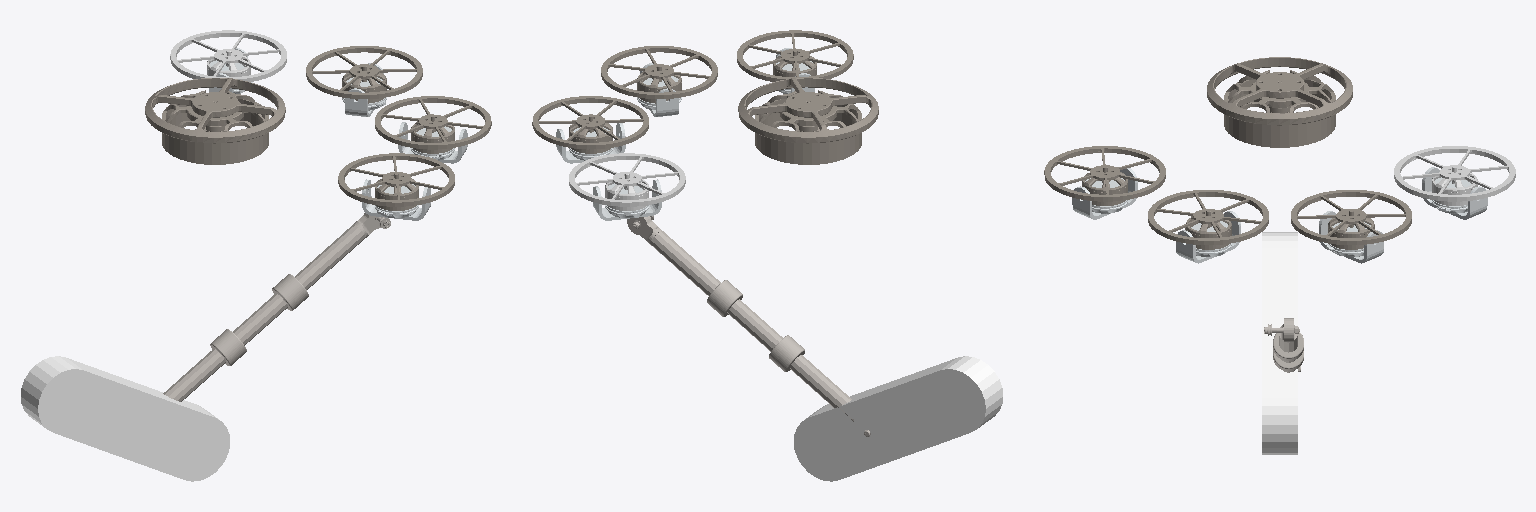
robot.urdf — hopper_cmg:
<?xml version="1.0" encoding="utf-8"?>
<!-- This URDF was automatically created by SolidWorks to URDF Exporter! Originally created by [author] ([email redacted]) 
     Commit Version: 1.5.1-0-g916b5db  Build Version: 1.5.7152.31018
     For more information, please see http://wiki.ros.org/sw_urdf_exporter -->
<robot
  name="hopper_cmg">
  <link
    name="base_link">
    <inertial>
      <origin
        xyz="0.00261236318523849 0.000103468728137993 0.0225006879651919"
        rpy="0 0 0" />
      <mass
        value="4.33217212737128" />
      <inertia
        ixx="0.00375815398192548"
        ixy="-3.22398991975807E-06"
        ixz="5.54302878597224E-05"
        iyy="0.00602760648550053"
        iyz="8.35762984194489E-06"
        izz="0.00485347608415349" />
    </inertial>
    <visual>
      <origin
        xyz="0 0 0"
        rpy="0 0 0" />
      <geometry>
        <mesh
          filename="package://hopper_cmg/meshes/base_link.STL" />
      </geometry>
      <material
        name="">
        <color
          rgba="0.898039215686275 0.898039215686275 0.898039215686275 1" />
      </material>
    </visual>
    <collision>
      <origin
        xyz="0 0 0"
        rpy="0 0 0" />
      <geometry>
        <mesh
          filename="package://hopper_cmg/meshes/base_link.STL" />
      </geometry>
    </collision>
  </link>
  <link
    name="Link 0">
    <inertial>
      <origin
        xyz="0.0121851264299085 0.0180889013941849 0.00112690392742547"
        rpy="0 0 0" />
      <mass
        value="0.256385566503952" />
      <inertia
        ixx="3.84650100874964E-05"
        ixy="1.5379784060096E-05"
        ixz="-8.48318798628567E-06"
        iyy="0.00017263374747093"
        iyz="1.08260201375488E-06"
        izz="0.000148822440720501" />
    </inertial>
    <visual>
      <origin
        xyz="0 0 0"
        rpy="0 0 0" />
      <geometry>
        <mesh
          filename="package://hopper_cmg/meshes/Link 0.STL" />
      </geometry>
      <material
        name="">
        <color
          rgba="0.898039215686275 0.898039215686275 0.898039215686275 1" />
      </material>
    </visual>
    <collision>
      <origin
        xyz="0 0 0"
        rpy="0 0 0" />
      <geometry>
        <mesh
          filename="package://hopper_cmg/meshes/Link 0.STL" />
      </geometry>
    </collision>
  </link>
  <joint
    name="Joint 0"
    type="revolute">
    <origin
      xyz="0 0 0"
      rpy="0 0.5235987755983 0" />
    <parent
      link="base_link" />
    <child
      link="Link 0" />
    <axis
      xyz="0 -1 0" />
    <limit
      lower="-3.14"
      upper="3.14"
      effort="0"
      velocity="0" />
  </joint>
  <link
    name="Link 1">
    <inertial>
      <origin
        xyz="0.133101645966311 0.0065299836527158 -1.77401572598601E-09"
        rpy="0 0 0" />
      <mass
        value="0.0631473819780702" />
      <inertia
        ixx="2.55548531328561E-06"
        ixy="6.97718053269074E-12"
        ixz="-1.4360015064691E-12"
        iyy="0.000104301911822778"
        iyz="7.22908067855875E-12"
        izz="0.000104301119173831" />
    </inertial>
    <visual>
      <origin
        xyz="0 0 0"
        rpy="0 0 0" />
      <geometry>
        <mesh
          filename="package://hopper_cmg/meshes/Link 1.STL" />
      </geometry>
      <material
        name="">
        <color
          rgba="0.776470588235294 0.756862745098039 0.737254901960784 1" />
      </material>
    </visual>
    <collision>
      <origin
        xyz="0 0 0"
        rpy="0 0 0" />
      <geometry>
        <mesh
          filename="package://hopper_cmg/meshes/Link 1.STL" />
      </geometry>
    </collision>
  </link>
  <joint
    name="Joint 1"
    type="revolute">
    <origin
      xyz="0.0999999999999999 0 0"
      rpy="-3.14159265358979 1.0768315178335 -3.14159265358979" />
    <parent
      link="Link 0" />
    <child
      link="Link 1" />
    <axis
      xyz="0 -1 0" />
    <limit
      lower="-0.7597"
      upper="1.8295"
      effort="0"
      velocity="0" />
  </joint>
  <link
    name="Link 2">
    <inertial>
      <origin
        xyz="0.0389032293637952 -0.0169313660252965 -0.000627148519961443"
        rpy="0 0 0" />
      <mass
        value="0.288845046277886" />
      <inertia
        ixx="3.46488303623413E-05"
        ixy="-3.2595892889737E-07"
        ixz="5.24928685528963E-06"
        iyy="0.000245584747760095"
        iyz="3.01080375580464E-08"
        izz="0.000226676363063251" />
    </inertial>
    <visual>
      <origin
        xyz="0 0 0"
        rpy="0 0 0" />
      <geometry>
        <mesh
          filename="package://hopper_cmg/meshes/Link 2.STL" />
      </geometry>
      <material
        name="">
        <color
          rgba="0.898039215686275 0.898039215686275 0.898039215686275 1" />
      </material>
    </visual>
    <collision>
      <origin
        xyz="0 0 0"
        rpy="0 0 0" />
      <geometry>
        <mesh
          filename="package://hopper_cmg/meshes/Link 2.STL" />
      </geometry>
    </collision>
  </link>
  <joint
    name="Joint 2"
    type="revolute">
    <origin
      xyz="0 0 0"
      rpy="3.14159265358979 0.553232742319403 -3.14159265358979" />
    <parent
      link="base_link" />
    <child
      link="Link 2" />
    <axis
      xyz="0 -1 0" />
    <limit
      lower="-3.14"
      upper="3.14"
      effort="0"
      velocity="0" />
  </joint>
  <link
    name="Link 3">
    <inertial>
      <origin
        xyz="0.101438168501981 -0.00251001080605991 -0.014853286013961"
        rpy="0 0 0" />
      <mass
        value="0.124857600403456" />
      <inertia
        ixx="1.60742533911176E-05"
        ixy="-5.54606458180708E-07"
        ixz="1.00368234247389E-06"
        iyy="0.000116506434480003"
        iyz="1.07130354027135E-07"
        izz="0.000112946753756388" />
    </inertial>
    <visual>
      <origin
        xyz="0 0 0"
        rpy="0 0 0" />
      <geometry>
        <mesh
          filename="package://hopper_cmg/meshes/Link 3.STL" />
      </geometry>
      <material
        name="">
        <color
          rgba="1 1 1 1" />
      </material>
    </visual>
    <collision>
      <origin
        xyz="0 0 0"
        rpy="0 0 0" />
      <geometry>
        <mesh
          filename="package://hopper_cmg/meshes/Link 3.STL" />
      </geometry>
    </collision>
  </link>
  <joint
    name="Joint 3"
    type="revolute">
    <origin
      xyz="0.270000000042219 0 0"
      rpy="-3.14159265358979 -1.07683151743819 3.14159265358979" />
    <parent
      link="Link 2" />
    <child
      link="Link 3" />
    <axis
      xyz="0 -1 0" />
    <limit
      lower="-1.8295"
      upper="0.7597"
      effort="0"
      velocity="0" />
  </joint>
  <link
    name="gimbal0">
    <inertial>
      <origin
        xyz="-3.24439967698958E-05 -0.00476693417491843 -1.47004711936322E-05"
        rpy="0 0 0" />
      <mass
        value="0.145059153810549" />
      <inertia
        ixx="2.16270334418995E-05"
        ixy="-3.5112429981254E-08"
        ixz="-1.74609413517041E-09"
        iyy="2.68084572591952E-05"
        iyz="-1.59653002769902E-08"
        izz="1.56100554784467E-05" />
    </inertial>
    <visual>
      <origin
        xyz="0 0 0"
        rpy="0 0 0" />
      <geometry>
        <mesh
          filename="package://hopper_cmg/meshes/gimbal0.STL" />
      </geometry>
      <material
        name="">
        <color
          rgba="0.898039215686275 0.917647058823529 0.929411764705882 1" />
      </material>
    </visual>
    <collision>
      <origin
        xyz="0 0 0"
        rpy="0 0 0" />
      <geometry>
        <mesh
          filename="package://hopper_cmg/meshes/gimbal0.STL" />
      </geometry>
    </collision>
  </link>
  <joint
    name="joint_gimbal0"
    type="fixed">
    <origin
      xyz="0.0200818325856985 -0.143506009999232 0.0469999999999983"
      rpy="1.5707963267949 0 0.785398163397444" />
    <parent
      link="base_link" />
    <child
      link="gimbal0" />
    <axis
      xyz="0.707106781186545 0 -0.70710678118655" />
  </joint>
  <link
    name="rw0">
    <inertial>
      <origin
        xyz="-1.37939491051675E-07 -0.009459272109353 -1.05271875022739E-07"
        rpy="0 0 0" />
      <mass
        value="0.0987820774247233" />
      <inertia
        ixx="5.9232902387301E-05"
        ixy="-8.72494565429382E-11"
        ixz="-1.38955720649882E-12"
        iyy="0.000115069019848817"
        iyz="-7.3188655456447E-11"
        izz="5.92328339979813E-05" />
    </inertial>
    <visual>
      <origin
        xyz="0 0 0"
        rpy="0 0 0" />
      <geometry>
        <mesh
          filename="package://hopper_cmg/meshes/rw0.STL" />
      </geometry>
      <material
        name="">
        <color
          rgba="0.647058823529412 0.619607843137255 0.588235294117647 1" />
      </material>
    </visual>
    <collision>
      <origin
        xyz="0 0 0"
        rpy="0 0 0" />
      <geometry>
        <mesh
          filename="package://hopper_cmg/meshes/rw0.STL" />
      </geometry>
    </collision>
  </link>
  <joint
    name="joint_rw0"
    type="continuous">
    <origin
      xyz="0 0 0"
      rpy="0 -0.834873615401156 3.14159265358979" />
    <parent
      link="gimbal0" />
    <child
      link="rw0" />
    <axis
      xyz="0 1 0" />
  </joint>
  <link
    name="gimbal1">
    <inertial>
      <origin
        xyz="-3.41130508157289E-05 -0.00476693457280208 1.02508103360238E-05"
        rpy="0 0 0" />
      <mass
        value="0.145059160959023" />
      <inertia
        ixx="2.16762455646179E-05"
        ixy="-3.69555052598344E-08"
        ixz="5.81578374244821E-08"
        iyy="2.68084600740621E-05"
        iyz="1.1052036908392E-08"
        izz="1.55608473369791E-05" />
    </inertial>
    <visual>
      <origin
        xyz="0 0 0"
        rpy="0 0 0" />
      <geometry>
        <mesh
          filename="package://hopper_cmg/meshes/gimbal1.STL" />
      </geometry>
      <material
        name="">
        <color
          rgba="0.898039215686275 0.917647058823529 0.929411764705882 1" />
      </material>
    </visual>
    <collision>
      <origin
        xyz="0 0 0"
        rpy="0 0 0" />
      <geometry>
        <mesh
          filename="package://hopper_cmg/meshes/gimbal1.STL" />
      </geometry>
    </collision>
  </link>
  <joint
    name="joint_gimbal1"
    type="fixed">
    <origin
      xyz="0.104934646328085 -0.058653196256847 0.0469999999999984"
      rpy="1.5707963267949 0 0.785398163397444" />
    <parent
      link="base_link" />
    <child
      link="gimbal1" />
    <axis
      xyz="-0.707106781186544 0 0.707106781186551" />
  </joint>
  <link
    name="rw1">
    <inertial>
      <origin
        xyz="1.05271873641899E-07 -0.00945927210935277 -1.37939493688455E-07"
        rpy="0 0 0" />
      <mass
        value="0.0987820774247232" />
      <inertia
        ixx="5.92328339979811E-05"
        ixy="7.31886554488849E-11"
        ixz="1.38955721454563E-12"
        iyy="0.000115069019848817"
        iyz="-8.72494565285255E-11"
        izz="5.92329023873008E-05" />
    </inertial>
    <visual>
      <origin
        xyz="0 0 0"
        rpy="0 0 0" />
      <geometry>
        <mesh
          filename="package://hopper_cmg/meshes/rw1.STL" />
      </geometry>
      <material
        name="">
        <color
          rgba="0.647058823529412 0.619607843137255 0.588235294117647 1" />
      </material>
    </visual>
    <collision>
      <origin
        xyz="0 0 0"
        rpy="0 0 0" />
      <geometry>
        <mesh
          filename="package://hopper_cmg/meshes/rw1.STL" />
      </geometry>
    </collision>
  </link>
  <joint
    name="joint_rw1"
    type="continuous">
    <origin
      xyz="0 0 0"
      rpy="0 0.0185983080019021 3.14159265358979" />
    <parent
      link="gimbal1" />
    <child
      link="rw1" />
    <axis
      xyz="0 1 0" />
  </joint>
  <link
    name="rwz">
    <inertial>
      <origin
        xyz="9.05342964485634E-09 -3.1638361375208E-10 -0.0146079871766007"
        rpy="0 0 0" />
      <mass
        value="0.377854494953541" />
      <inertia
        ixx="0.000300958121757203"
        ixy="-4.23471734024503E-12"
        ixz="-6.67153439225596E-12"
        iyy="0.000300957997312782"
        iyz="9.55842433400722E-14"
        izz="0.000578115934214614" />
    </inertial>
    <visual>
      <origin
        xyz="0 0 0"
        rpy="0 0 0" />
      <geometry>
        <mesh
          filename="package://hopper_cmg/meshes/rwz.STL" />
      </geometry>
      <material
        name="">
        <color
          rgba="0.647058823529412 0.619607843137255 0.588235294117647 1" />
      </material>
    </visual>
    <collision>
      <origin
        xyz="0 0 0"
        rpy="0 0 0" />
      <geometry>
        <mesh
          filename="package://hopper_cmg/meshes/rwz.STL" />
      </geometry>
    </collision>
  </link>
  <joint
    name="joint_rwz"
    type="continuous">
    <origin
      xyz="-0.076 0 0.0991000000000001"
      rpy="0 0 -2.35619449019233" />
    <parent
      link="base_link" />
    <child
      link="rwz" />
    <axis
      xyz="0 0 1" />
  </joint>
  <link
    name="gimbal2">
    <inertial>
      <origin
        xyz="-3.24439967699305E-05 -0.00476693417491843 -1.47004711935766E-05"
        rpy="0 0 0" />
      <mass
        value="0.145059153810549" />
      <inertia
        ixx="2.16270334418995E-05"
        ixy="-3.5112429981238E-08"
        ixz="-1.74609413518481E-09"
        iyy="2.68084572591951E-05"
        iyz="-1.5965300276996E-08"
        izz="1.56100554784467E-05" />
    </inertial>
    <visual>
      <origin
        xyz="0 0 0"
        rpy="0 0 0" />
      <geometry>
        <mesh
          filename="package://hopper_cmg/meshes/gimbal2.STL" />
      </geometry>
      <material
        name="">
        <color
          rgba="0.898039215686275 0.917647058823529 0.929411764705882 1" />
      </material>
    </visual>
    <collision>
      <origin
        xyz="0 0 0"
        rpy="0 0 0" />
      <geometry>
        <mesh
          filename="package://hopper_cmg/meshes/gimbal2.STL" />
      </geometry>
    </collision>
  </link>
  <joint
    name="joint_gimbal2"
    type="fixed">
    <origin
      xyz="0.104934646328084 0.058653196256847 0.0470000000000001"
      rpy="1.5707963267949 0 2.35619449019235" />
    <parent
      link="base_link" />
    <child
      link="gimbal2" />
    <axis
      xyz="0 0 0" />
  </joint>
  <link
    name="rw2">
    <inertial>
      <origin
        xyz="-1.37939491121064E-07 -0.00945927210935297 -1.05271875293356E-07"
        rpy="0 0 0" />
      <mass
        value="0.0987820774247234" />
      <inertia
        ixx="5.9232902387301E-05"
        ixy="-8.72494564534164E-11"
        ixz="-1.38955719675794E-12"
        iyy="0.000115069019848817"
        iyz="-7.31886538986355E-11"
        izz="5.92328339979813E-05" />
    </inertial>
    <visual>
      <origin
        xyz="0 0 0"
        rpy="0 0 0" />
      <geometry>
        <mesh
          filename="package://hopper_cmg/meshes/rw2.STL" />
      </geometry>
      <material
        name="">
        <color
          rgba="0.647058823529412 0.619607843137255 0.588235294117647 1" />
      </material>
    </visual>
    <collision>
      <origin
        xyz="0 0 0"
        rpy="0 0 0" />
      <geometry>
        <mesh
          filename="package://hopper_cmg/meshes/rw2.STL" />
      </geometry>
    </collision>
  </link>
  <joint
    name="joint_rw2"
    type="continuous">
    <origin
      xyz="0 0 0"
      rpy="0 -0.834873615401156 3.14159265358979" />
    <parent
      link="gimbal2" />
    <child
      link="rw2" />
    <axis
      xyz="0 1 0" />
  </joint>
  <link
    name="gimbal3">
    <inertial>
      <origin
        xyz="-3.41130091143643E-05 -0.00476693456543522 1.02508109800087E-05"
        rpy="0 0 0" />
      <mass
        value="0.145059160100867" />
      <inertia
        ixx="2.16762455706335E-05"
        ixy="-3.69554946688773E-08"
        ixz="5.81578377267636E-08"
        iyy="2.68084600312876E-05"
        iyz="1.10520332051306E-08"
        izz="1.55608472953775E-05" />
    </inertial>
    <visual>
      <origin
        xyz="0 0 0"
        rpy="0 0 0" />
      <geometry>
        <mesh
          filename="package://hopper_cmg/meshes/gimbal3.STL" />
      </geometry>
      <material
        name="">
        <color
          rgba="0.898039215686275 0.917647058823529 0.929411764705882 1" />
      </material>
    </visual>
    <collision>
      <origin
        xyz="0 0 0"
        rpy="0 0 0" />
      <geometry>
        <mesh
          filename="package://hopper_cmg/meshes/gimbal3.STL" />
      </geometry>
    </collision>
  </link>
  <joint
    name="joint_gimbal3"
    type="fixed">
    <origin
      xyz="0.0200818325856976 0.143506009999232 0.047"
      rpy="1.5707963267949 0 2.35619449019235" />
    <parent
      link="base_link" />
    <child
      link="gimbal3" />
    <axis
      xyz="0 0 0" />
  </joint>
  <link
    name="rw3">
    <inertial>
      <origin
        xyz="0.00945927210935301 1.05271875036617E-07 -1.37939491051675E-07"
        rpy="0 0 0" />
      <mass
        value="0.0987820774247234" />
      <inertia
        ixx="0.000115069019848817"
        ixy="-7.31886555445307E-11"
        ixz="8.72494564434813E-11"
        iyy="5.92328339979811E-05"
        iyz="1.38955724334475E-12"
        izz="5.92329023873009E-05" />
    </inertial>
    <visual>
      <origin
        xyz="0 0 0"
        rpy="0 0 0" />
      <geometry>
        <mesh
          filename="package://hopper_cmg/meshes/rw3.STL" />
      </geometry>
      <material
        name="">
        <color
          rgba="0.898039215686275 0.898039215686275 0.898039215686275 1" />
      </material>
    </visual>
    <collision>
      <origin
        xyz="0 0 0"
        rpy="0 0 0" />
      <geometry>
        <mesh
          filename="package://hopper_cmg/meshes/rw3.STL" />
      </geometry>
    </collision>
  </link>
  <joint
    name="joint_rw3"
    type="continuous">
    <origin
      xyz="0 0 0"
      rpy="-0.018598308001901 0 1.5707963267949" />
    <parent
      link="gimbal3" />
    <child
      link="rw3" />
    <axis
      xyz="-1 0 0" />
  </joint>
</robot>

--- Facts derived from the render (not from the file) ---
3 views of the same robot in one strip: view 1: azimuth 30°, elevation 25°; view 2: azimuth 150°, elevation 25°; view 3: azimuth 270°, elevation 25° (orthographic).
Robot: hopper_cmg — 14 links, 13 joints (4 revolute, 5 continuous, 4 fixed); root link base_link; default pose: all joints at 0.
Visible links, largest first — view 1: Link 3, rwz, Link 1, rw1, rw0, rw2, rw3, gimbal0, gimbal1, gimbal2; view 2: Link 3, rwz, Link 1, rw2, rw3, rw1, rw0, gimbal3, gimbal2, gimbal1; view 3: rwz, Link 3, rw2, rw3, rw1, rw0, Link 1, gimbal0, gimbal3, gimbal1, gimbal2.
Boxes of the visible links, box(x1,y1,x2,y2) form: Link 3: box(21, 356, 229, 481); rwz: box(145, 78, 285, 164); Link 1: box(163, 213, 390, 401); rw1: box(375, 96, 491, 153); rw0: box(338, 153, 454, 210); rw2: box(306, 46, 422, 103); rw3: box(170, 30, 286, 81); gimbal0: box(362, 179, 430, 220); gimbal1: box(398, 122, 467, 163); gimbal2: box(342, 63, 386, 116); Link 3: box(794, 356, 1002, 481); rwz: box(738, 78, 878, 164); Link 1: box(627, 216, 870, 436); rw2: box(532, 96, 648, 153); rw3: box(569, 153, 685, 210); rw1: box(601, 46, 717, 103); rw0: box(737, 30, 853, 81); gimbal3: box(593, 179, 661, 220); gimbal2: box(556, 123, 625, 163); gimbal1: box(637, 63, 681, 116); rwz: box(1207, 57, 1352, 147); Link 3: box(1262, 232, 1297, 454); rw2: box(1291, 190, 1411, 249); rw3: box(1394, 146, 1515, 205); rw1: box(1148, 190, 1268, 249); rw0: box(1044, 146, 1165, 205); Link 1: box(1264, 318, 1303, 372); gimbal0: box(1072, 168, 1137, 219); gimbal3: box(1422, 167, 1487, 219); gimbal1: box(1176, 211, 1240, 263); gimbal2: box(1319, 211, 1383, 263).
Size in the robot's own frame: 0.4145 by 0.3867 by 0.346 metres.
Meshes: 14 distinct files referenced, 11 mesh visuals loaded (11 binary STL); not drawn: 3 (reference not matched to a file when rendering).
